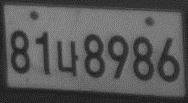1: (34, 30, 52, 76)
6: (156, 37, 180, 83)
8: (132, 35, 155, 82), (83, 33, 105, 78), (9, 29, 31, 73)
9: (106, 33, 129, 79)
나: (55, 39, 79, 78)
